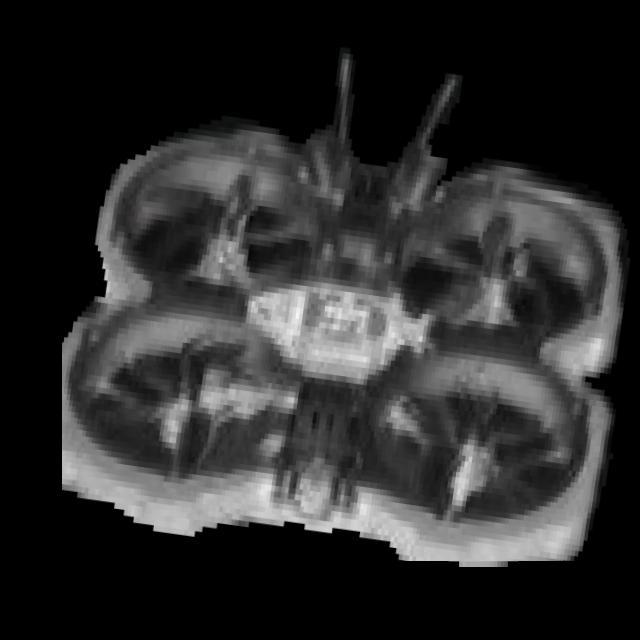drone: (62, 27, 640, 561)
